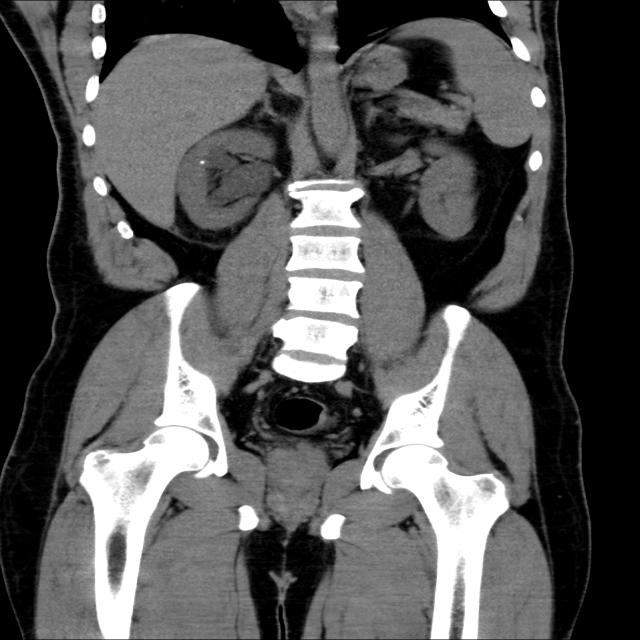kidneystone: (194, 156, 209, 164)
